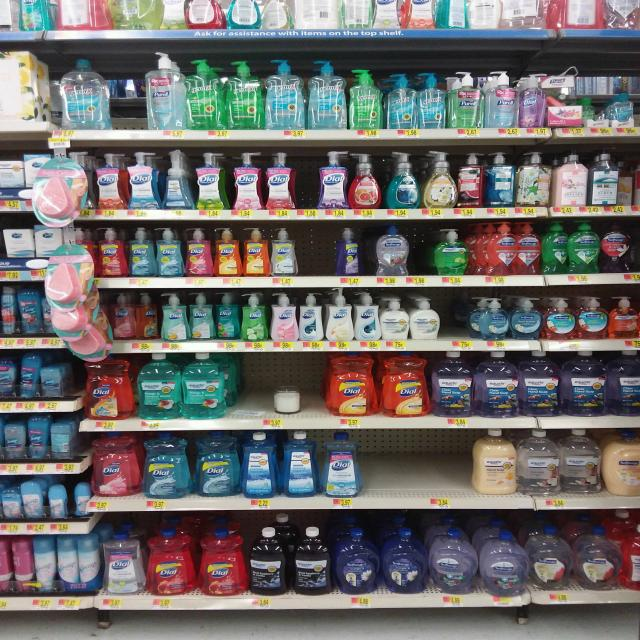void: (410, 431, 466, 508), (226, 352, 270, 428), (366, 430, 407, 509), (302, 223, 332, 287), (444, 288, 473, 350)
